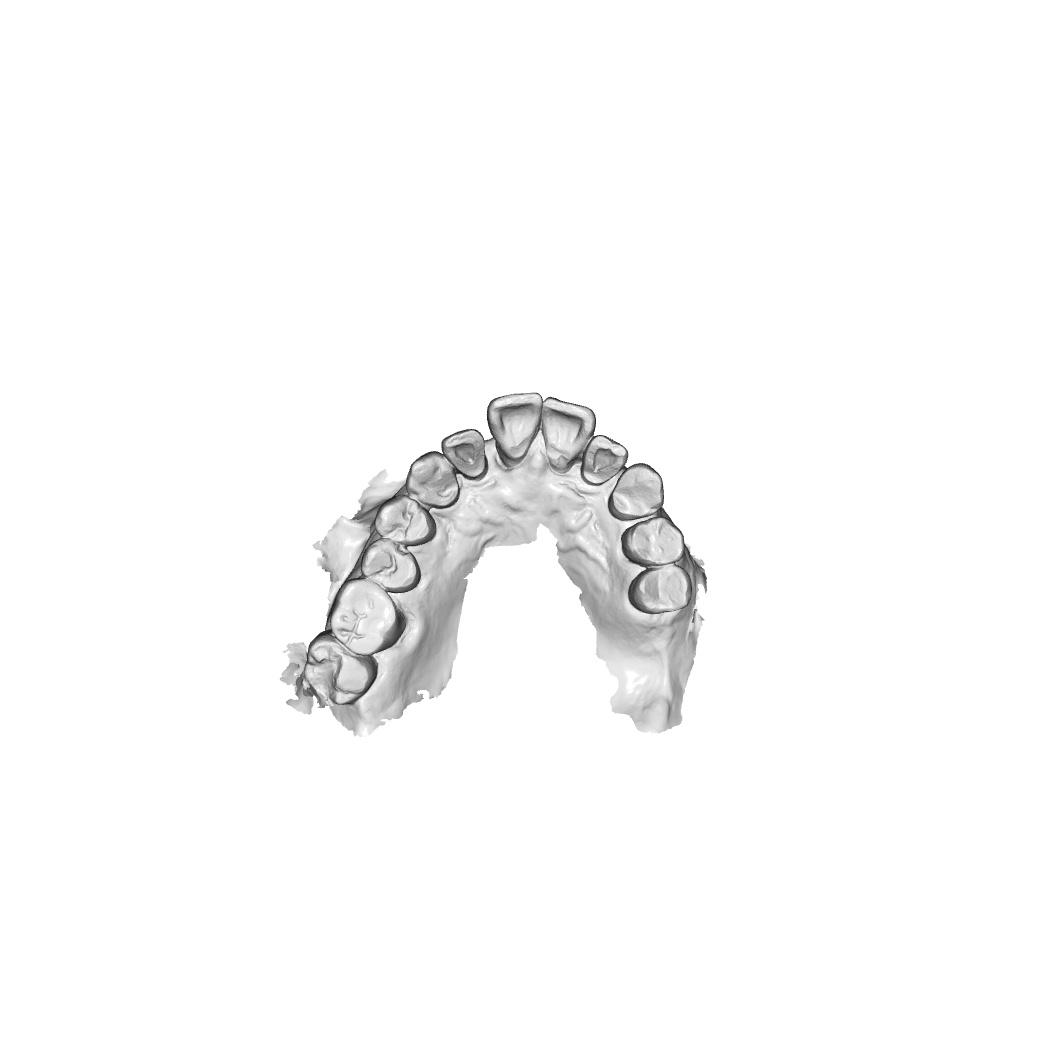canine: (606, 462, 665, 522), (405, 450, 460, 510)
incisor: (540, 395, 597, 473), (486, 392, 543, 462), (581, 434, 629, 486), (440, 428, 487, 480)
molar: (302, 628, 379, 710), (330, 577, 407, 657)
premolar: (360, 538, 422, 594), (628, 563, 693, 615), (620, 516, 686, 567), (374, 494, 437, 547)
